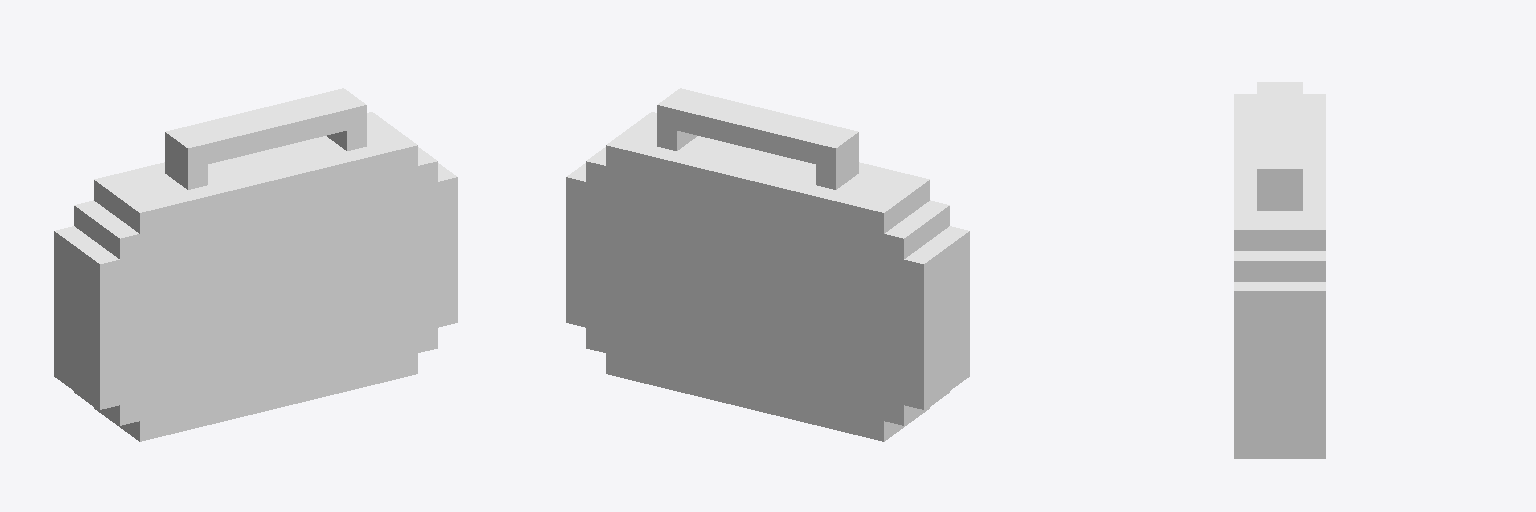
File: medkit.obj
3 renders of one model, left to right at view 1: azimuth 30°, elevation 25°; view 2: azimuth 150°, elevation 25°; view 3: azimuth 270°, elevation 25°, orthographic.
Visible parts, largest first — view 1: object 1; view 2: object 1; view 3: object 1.
Part boxes in pixels (bbox=[...]): object 1: bbox=[54, 88, 457, 441]; object 1: bbox=[566, 88, 969, 441]; object 1: bbox=[1234, 82, 1325, 458].
Size of the model in its own units: 1.8 by 1.3 by 0.4.